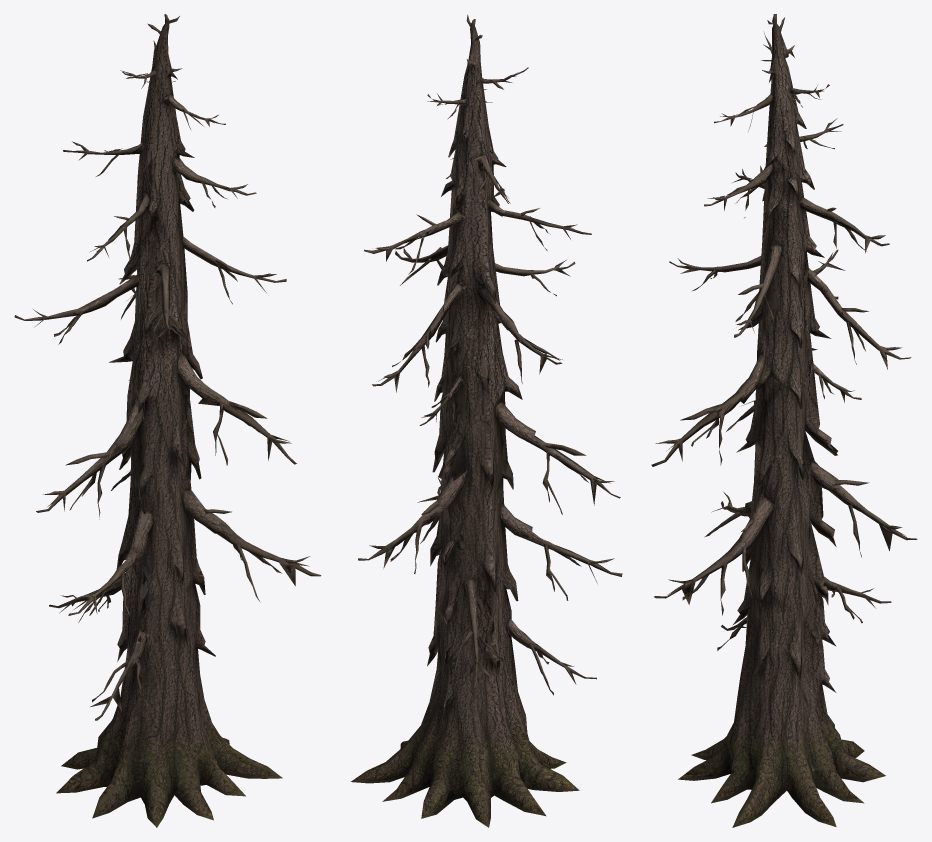
The model's file is tree.glb.
3 renders of one model, left to right at view 1: azimuth 30°, elevation 25°; view 2: azimuth 150°, elevation 25°; view 3: azimuth 270°, elevation 25°, orthographic.
Parts seen in each view (by area): view 1: tripo_node_ab25f772-45bf-4357-8287-375c3ab1cb80; view 2: tripo_node_ab25f772-45bf-4357-8287-375c3ab1cb80; view 3: tripo_node_ab25f772-45bf-4357-8287-375c3ab1cb80.
Part boxes in pixels (<box>): tripo_node_ab25f772-45bf-4357-8287-375c3ab1cb80: <box>14,14,321,827</box>; tripo_node_ab25f772-45bf-4357-8287-375c3ab1cb80: <box>351,14,622,827</box>; tripo_node_ab25f772-45bf-4357-8287-375c3ab1cb80: <box>651,14,917,827</box>.
Size of the model in its own units: 0.3262 by 0.998 by 0.3145.
1 material, 1 textured.
